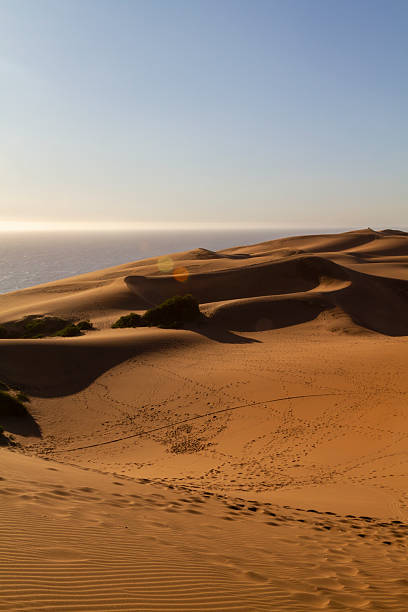human_footprint: (24, 480, 72, 501), (162, 425, 202, 445), (210, 500, 254, 516), (253, 504, 287, 520), (85, 487, 116, 504), (167, 495, 202, 510), (123, 489, 150, 502)
